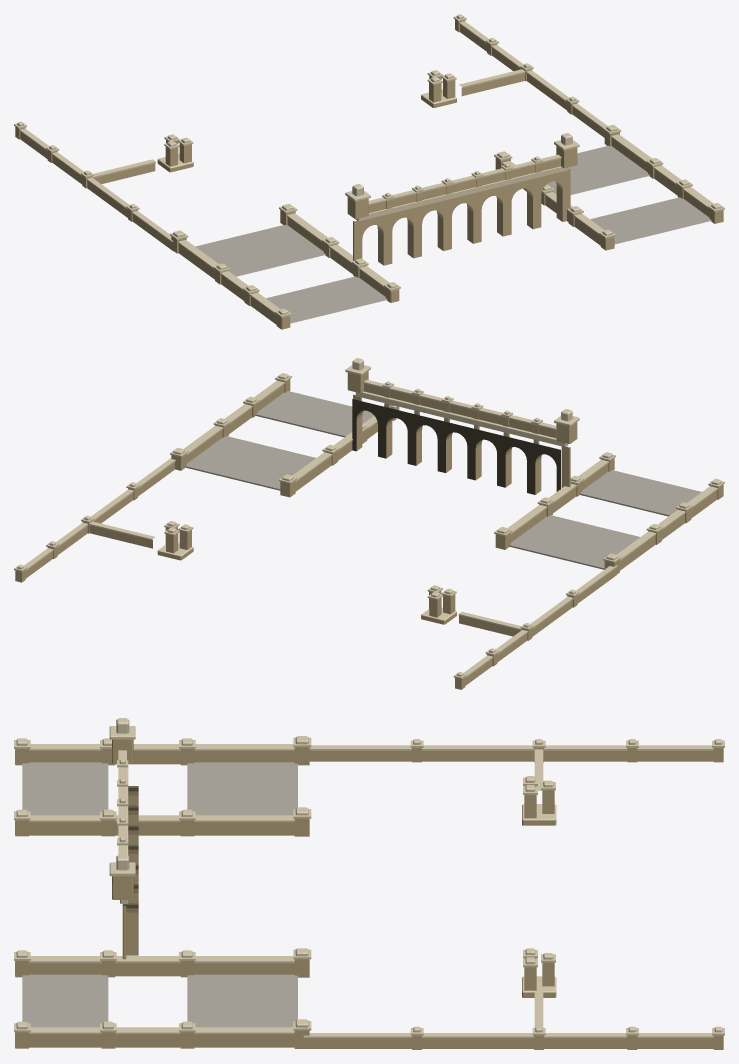
Rendered from nyc-bethesda-terrace.glb.
3 renders of one model, top to bottom at view 1: azimuth 30°, elevation 25°; view 2: azimuth 150°, elevation 25°; view 3: azimuth 270°, elevation 25°, orthographic. The views are drawn at different scales.
Parts seen in each view (by area): view 1: Bethesda Terrace; view 2: Bethesda Terrace; view 3: Bethesda Terrace.
Boxes of the visible parts, left/top/right/bottom form: Bethesda Terrace: left=14, top=14, right=724, bottom=329; Bethesda Terrace: left=14, top=358, right=724, bottom=689; Bethesda Terrace: left=14, top=718, right=724, bottom=1049.
Bounding box in the file's own units: 48.3 × 8.9 × 49.53.
